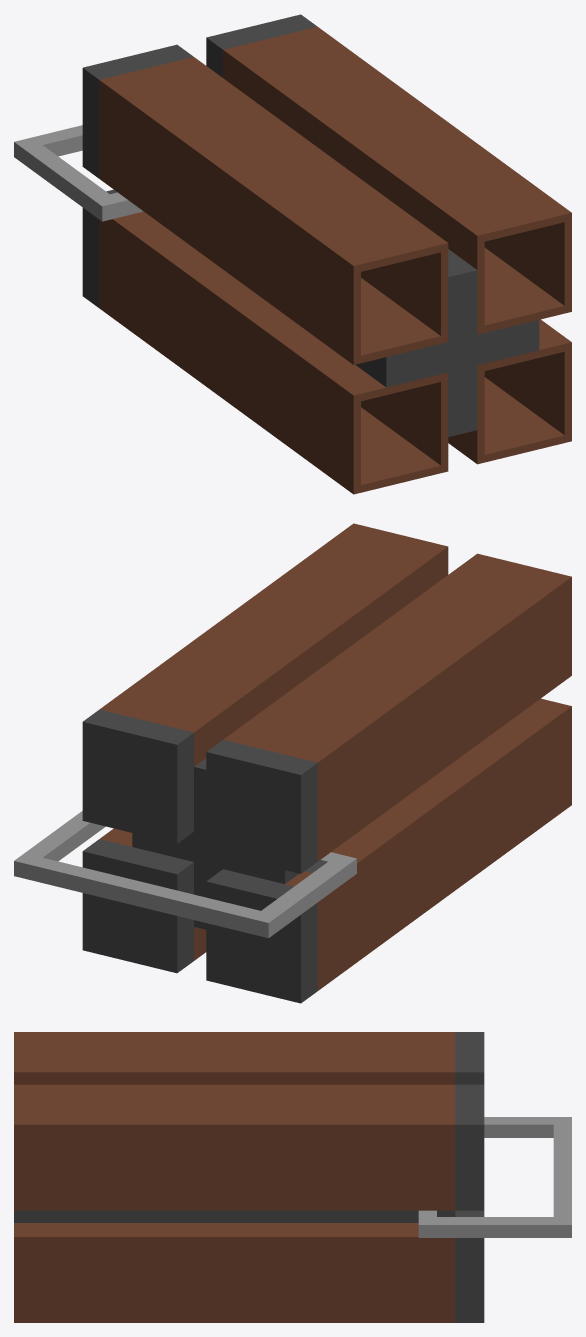
The model's file is quad_launcher_clip.fbx.
The picture shows the model from 3 angles, top to bottom: view 1: azimuth 30°, elevation 25°; view 2: azimuth 150°, elevation 25°; view 3: azimuth 270°, elevation 25°; orthographic projection. The views are drawn at different scales.
Visible parts, largest first — view 1: quad_launcher_clip_base, quad_launcher_clip_handle; view 2: quad_launcher_clip_base, quad_launcher_clip_handle; view 3: quad_launcher_clip_base, quad_launcher_clip_handle.
Part boxes in pixels (bbox=[...]): quad_launcher_clip_base: bbox=[82, 14, 571, 494]; quad_launcher_clip_handle: bbox=[14, 125, 143, 221]; quad_launcher_clip_base: bbox=[82, 523, 571, 1003]; quad_launcher_clip_handle: bbox=[14, 811, 356, 938]; quad_launcher_clip_base: bbox=[14, 1032, 484, 1322]; quad_launcher_clip_handle: bbox=[418, 1117, 571, 1237].
Bounding box in the file's own units: 42 × 36 × 91.8.
